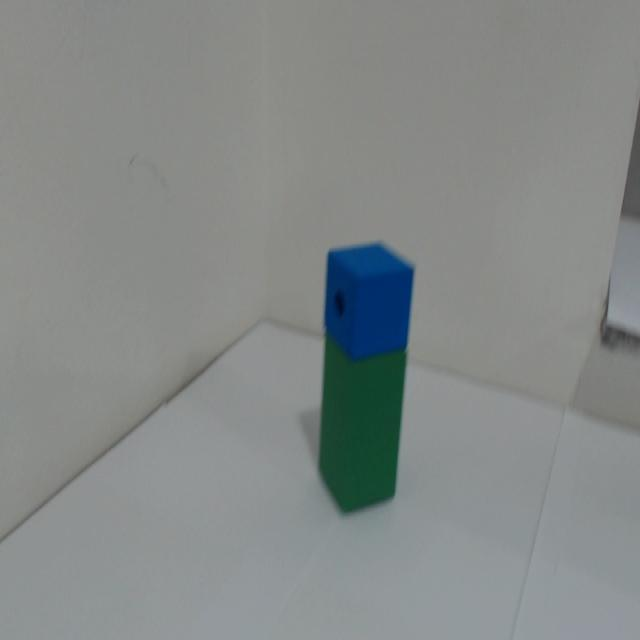cube: (316, 218, 437, 354)
